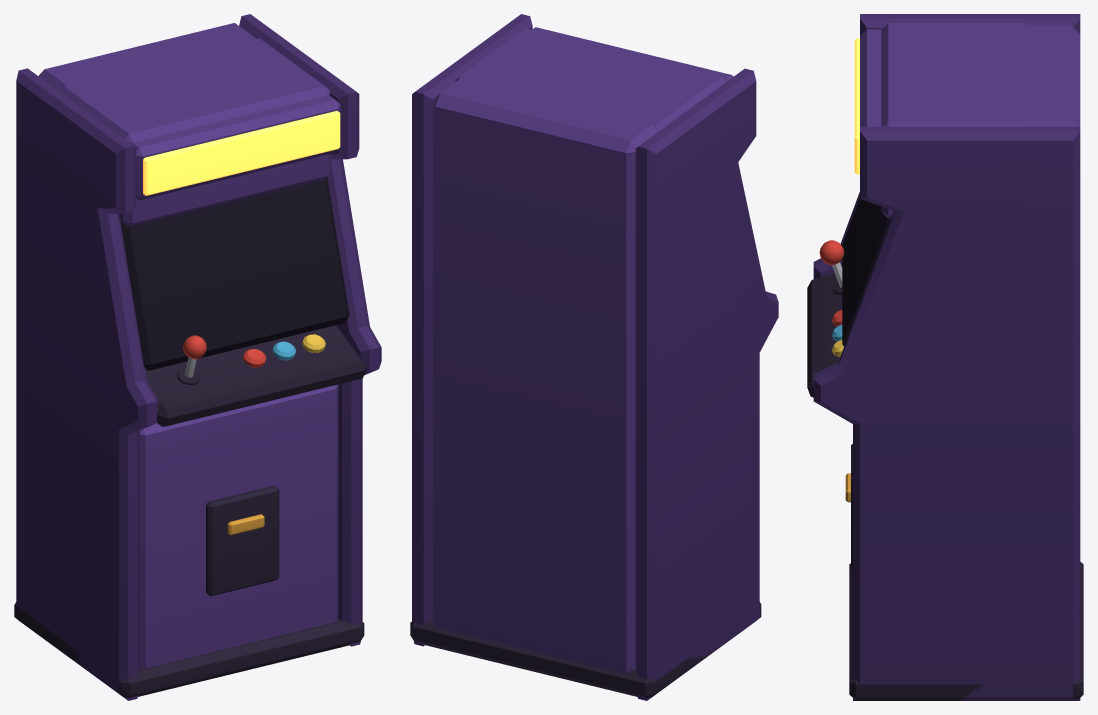
The model's file is fliperama.glb.
3 renders of one model, left to right at view 1: azimuth 30°, elevation 25°; view 2: azimuth 150°, elevation 25°; view 3: azimuth 270°, elevation 25°, orthographic. The views are drawn at different scales.
Visible parts, largest first — view 1: corpo, letreiro, controles; view 2: corpo; view 3: corpo, controles, letreiro.
Part boxes in pixels (x1=…): corpo: x1=14, y1=14, x2=381, y2=700; letreiro: x1=143, y1=111, x2=340, y2=195; controles: x1=177, y1=334, x2=325, y2=384; corpo: x1=410, y1=14, x2=778, y2=700; corpo: x1=807, y1=14, x2=1083, y2=700; controles: x1=819, y1=240, x2=844, y2=356; letreiro: x1=854, y1=38, x2=859, y2=174.
Bounding box in the file's own units: 0.82 × 1.77 × 0.7786.
